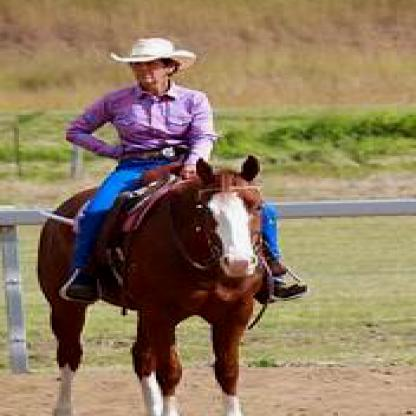horse: (33, 154, 265, 414)
